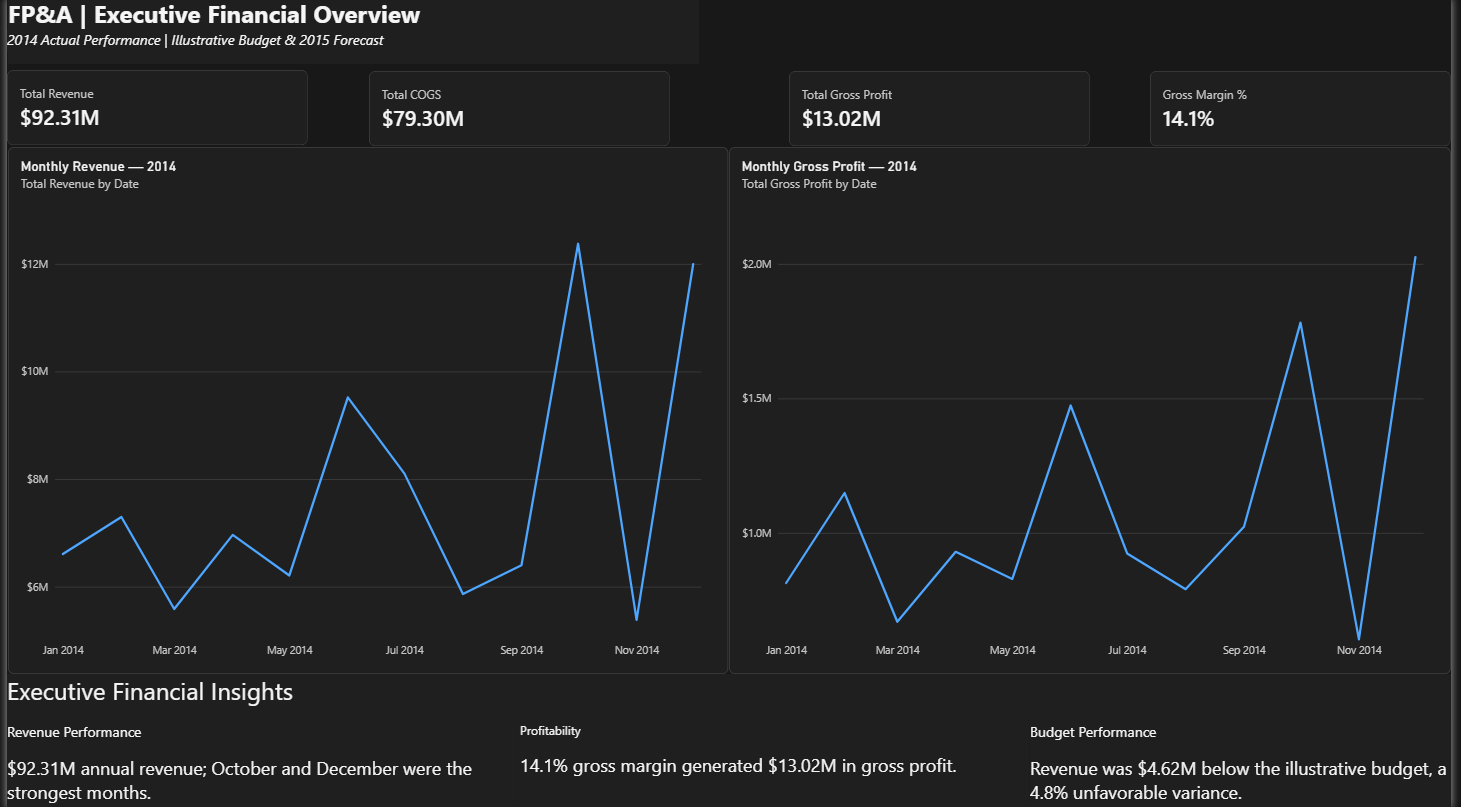

The dashboard page shown, as its layout file describes it:
{"tool":"powerbi","page":{"name":"Executive Overview","canvas":[1920,1080],"ordinal":0},"visuals":[{"type":"cardVisual","fields":{"Data":["Budget.Total Revenue"]},"box":[0,97.2,400,100],"z":0},{"type":"cardVisual","fields":{"Data":["Budget.Total COGS"]},"box":[480.8,98.8,400,100],"z":1000},{"type":"cardVisual","fields":{"Data":["Budget.Gross Margin %"]},"box":[1519.9,98.8,400,100],"z":2000},{"type":"cardVisual","fields":{"Data":["Budget.Total Gross Profit"]},"box":[1040.7,98.8,400,100],"z":3000},{"type":"lineChart","title":"Monthly Revenue — 2014","fields":{"Category":["Monthly_Actuals.Date"],"Y":["Budget.Total Revenue"]},"box":[1.6,199.2,958.4,701.5],"z":4000},{"type":"lineChart","title":"Monthly Gross Profit — 2014","fields":{"Category":["Monthly_Actuals.Date"],"Y":["Budget.Total Gross Profit"]},"box":[960,199.2,960,701.5],"z":5000},{"type":"textbox","box":[1.6,0,918.8,88.9],"z":6000},{"type":"textbox","box":[0,44.5,918.8,28],"z":7000},{"type":"textbox","box":[0,964.9,681.7,115.3],"z":8000},{"type":"textbox","box":[681.7,964.9,678.4,115.3],"z":9000},{"type":"textbox","box":[1360.1,964.9,559.9,115.3],"z":10000},{"type":"textbox","box":[0,900.7,1920,64.2],"z":11000}]}

Visuals, with their boxes in screenshot pixels (x1, y1, x2, y2), scaled from the page's 1920x1080 canvas onto the 1461x807 screenshot:
cardVisual - Budget.Total Revenue: 0,73,304,147
cardVisual - Budget.Total COGS: 366,74,670,149
cardVisual - Budget.Gross Margin %: 1157,74,1460,149
cardVisual - Budget.Total Gross Profit: 792,74,1096,149
"Monthly Revenue — 2014" lineChart: 1,149,730,673
"Monthly Gross Profit — 2014" lineChart: 730,149,1460,673
textbox: 1,0,700,66
textbox: 0,33,699,54
textbox: 0,721,519,806
textbox: 519,721,1035,806
textbox: 1035,721,1460,806
textbox: 0,673,1460,721
